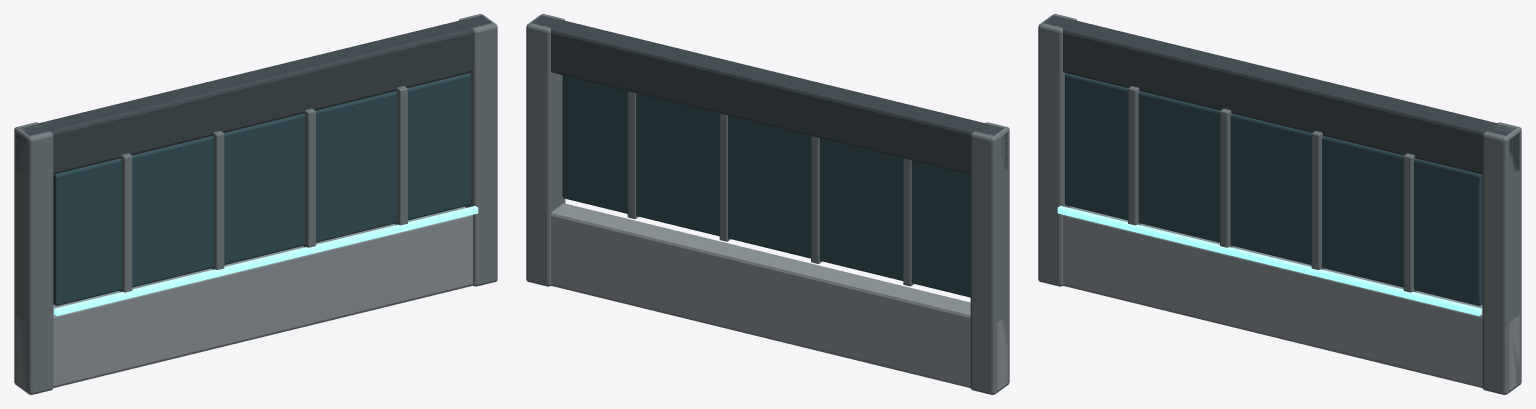
The model's file is WindowFacade_A.fbx.
The picture shows the model from 3 angles, left to right: view 1: azimuth 30°, elevation 25°; view 2: azimuth 150°, elevation 25°; view 3: azimuth 330°, elevation 25°; orthographic projection.
Parts seen in each view (by area): view 1: Facade Glass, Facade Lower Wall, Facade Upper Wall, Facade Left Frame, Facade Right Frame, Facade Accent Sill, Facade Mullion, Facade Mullion.001, Facade Mullion.003, Facade Mullion.002; view 2: Facade Glass, Facade Lower Wall, Facade Upper Wall, Facade Left Frame, Facade Right Frame, Facade Mullion.002, Facade Mullion.003, Facade Mullion, Facade Mullion.001; view 3: Facade Glass, Facade Lower Wall, Facade Upper Wall, Facade Right Frame, Facade Left Frame, Facade Accent Sill, Facade Mullion.003, Facade Mullion.002, Facade Mullion, Facade Mullion.001.
Part boxes in pixels (x1,y1,x2,y2): Facade Glass: (53, 73, 470, 305); Facade Lower Wall: (16, 206, 472, 390); Facade Upper Wall: (16, 15, 491, 174); Facade Left Frame: (14, 122, 53, 394); Facade Right Frame: (459, 14, 497, 286); Facade Accent Sill: (54, 206, 478, 315); Facade Mullion: (119, 153, 132, 292); Facade Mullion.001: (211, 131, 224, 269); Facade Mullion.003: (395, 86, 407, 225); Facade Mullion.002: (303, 108, 315, 247); Facade Glass: (562, 75, 970, 297); Facade Lower Wall: (551, 203, 1007, 390); Facade Upper Wall: (532, 15, 1007, 174); Facade Left Frame: (970, 122, 1009, 394); Facade Right Frame: (526, 14, 565, 286); Facade Mullion.002: (719, 113, 730, 241); Facade Mullion.003: (627, 91, 638, 219); Facade Mullion: (903, 158, 913, 286); Facade Mullion.001: (811, 136, 821, 263); Facade Glass: (1065, 73, 1482, 305); Facade Lower Wall: (1063, 206, 1519, 390); Facade Upper Wall: (1044, 15, 1519, 174); Facade Right Frame: (1482, 122, 1521, 394); Facade Left Frame: (1038, 14, 1076, 286); Facade Accent Sill: (1057, 206, 1481, 315); Facade Mullion.003: (1403, 153, 1416, 292); Facade Mullion.002: (1311, 131, 1324, 269); Facade Mullion: (1128, 86, 1140, 225); Facade Mullion.001: (1220, 108, 1232, 247).
Bounding box in the file's own units: 8 × 4.2 × 0.595.
